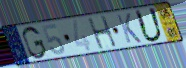4: (72, 19, 93, 52)
5: (40, 23, 66, 56)
G: (21, 25, 48, 60)
H: (87, 14, 119, 51)
K: (115, 13, 143, 45)
U: (133, 7, 165, 44)
